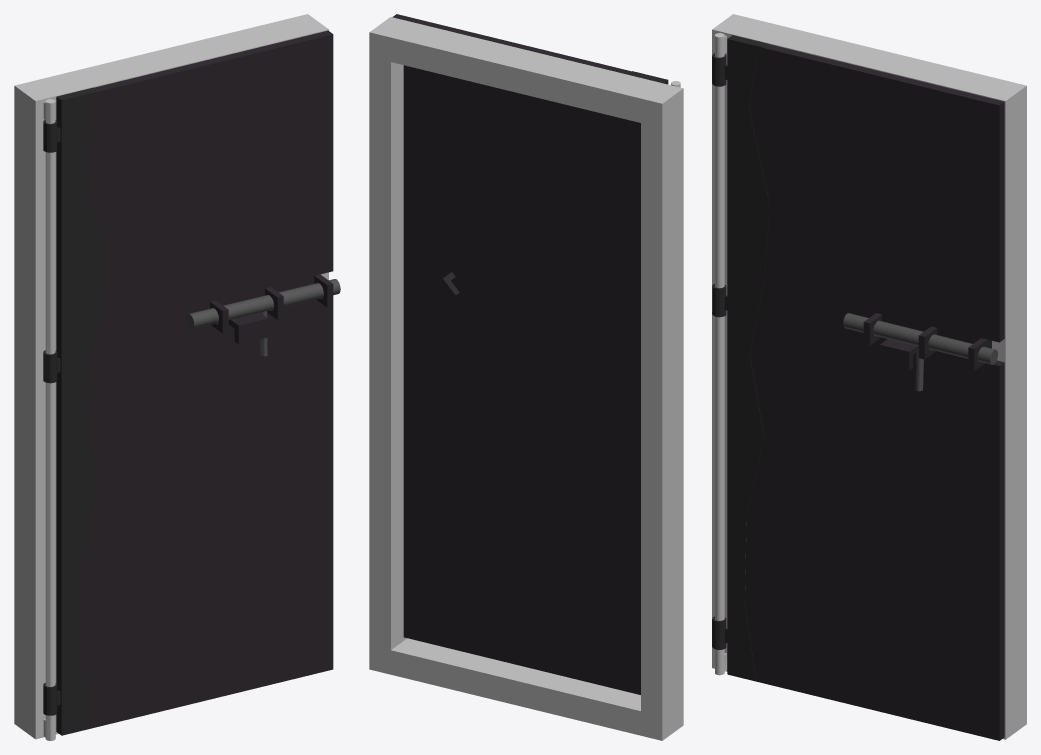
File: door.fbx
3 views of the same model, side by side, from view 1: azimuth 30°, elevation 25°; view 2: azimuth 150°, elevation 25°; view 3: azimuth 330°, elevation 25° (orthographic).
Visible parts, largest first — view 1: основа двери.001, дверной проем(left), основа двери(уничтоженная).002, засов двери; view 2: основа двери.001, дверной проем(left); view 3: основа двери.001, дверной проем(left), основа двери(уничтоженная).002, засов двери.
Boxes of the visible parts, x1,y1,x2,y2 form: основа двери.001: [45, 30, 333, 735]; дверной проем(left): [14, 14, 328, 740]; основа двери(уничтоженная).002: [43, 87, 103, 735]; засов двери: [186, 279, 340, 356]; основа двери.001: [392, 14, 640, 694]; дверной проем(left): [369, 17, 683, 740]; основа двери.001: [714, 44, 1004, 740]; дверной проем(left): [712, 14, 1026, 739]; основа двери(уничтоженная).002: [712, 35, 769, 681]; засов двери: [843, 313, 997, 391].
Size of the model in its own units: 400 by 831 by 92.06.
